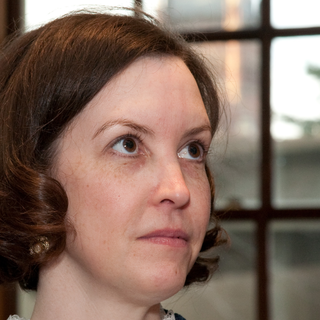eye: (169, 136, 214, 168), (102, 130, 148, 161)
